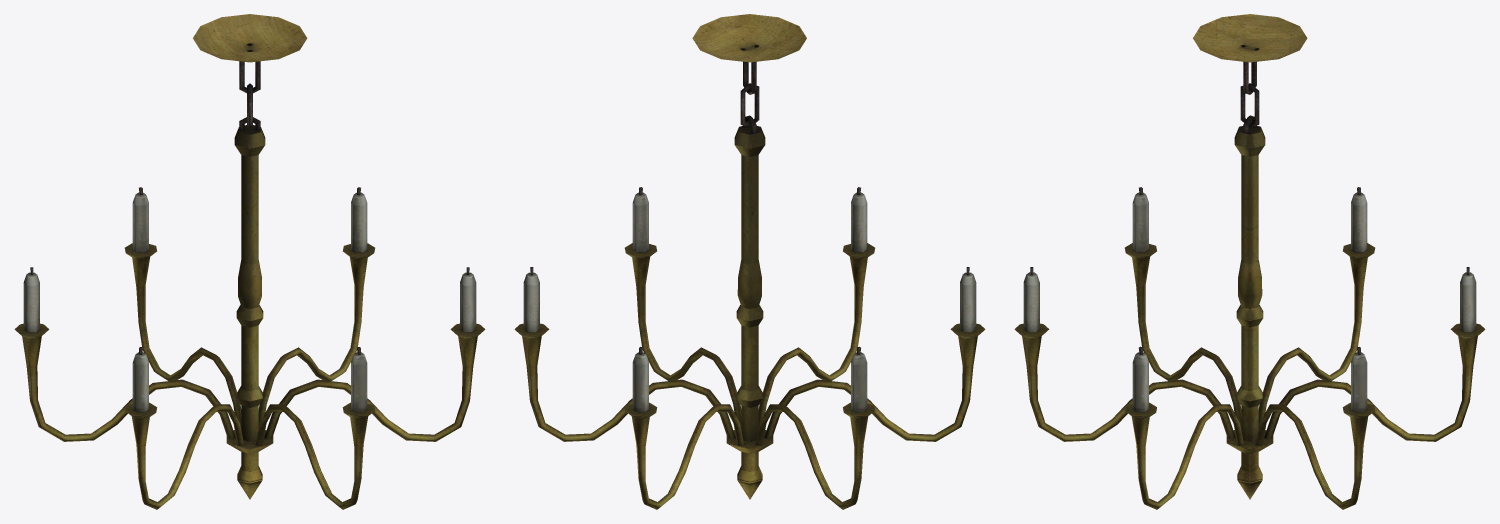
Rendered from inn_chandelier1.glb.
3 renders of one model, left to right at view 1: azimuth 30°, elevation 25°; view 2: azimuth 150°, elevation 25°; view 3: azimuth 270°, elevation 25°, orthographic.
Parts seen in each view (by area): view 1: inn_chandelier1; view 2: inn_chandelier1; view 3: inn_chandelier1.
Part boxes in pixels (box(x1,y1,x2,y2)): inn_chandelier1: box(14, 14, 485, 509); inn_chandelier1: box(514, 14, 985, 509); inn_chandelier1: box(1014, 14, 1485, 509).
Size of the model in its own units: 0.6352 by 0.7887 by 0.7294.
1 material, 1 textured.
